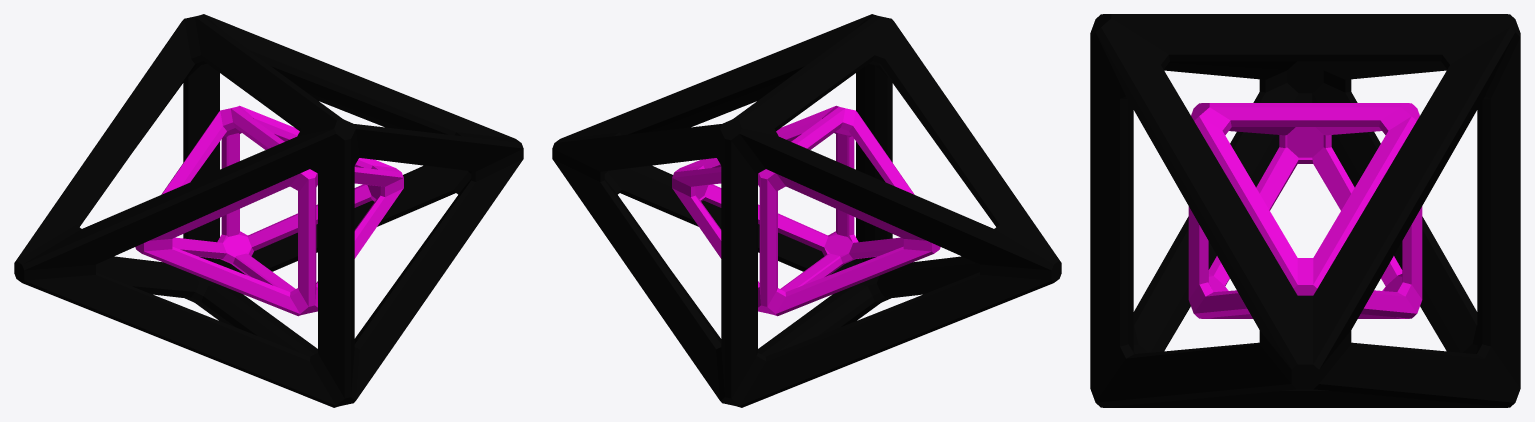
The model's file is Thing.fbx.
3 views of the same model, side by side, from view 1: azimuth 30°, elevation 25°; view 2: azimuth 150°, elevation 25°; view 3: azimuth 270°, elevation 25° (orthographic). The views are drawn at different scales.
Visible parts, largest first — view 1: Thing; view 2: Thing; view 3: Thing.
Part boxes in pixels (left/top/right/bottom): Thing: left=14, top=14, right=523, bottom=407; Thing: left=552, top=14, right=1061, bottom=407; Thing: left=1090, top=14, right=1520, bottom=407.
Size of the model in its own units: 297 by 162 by 162.
